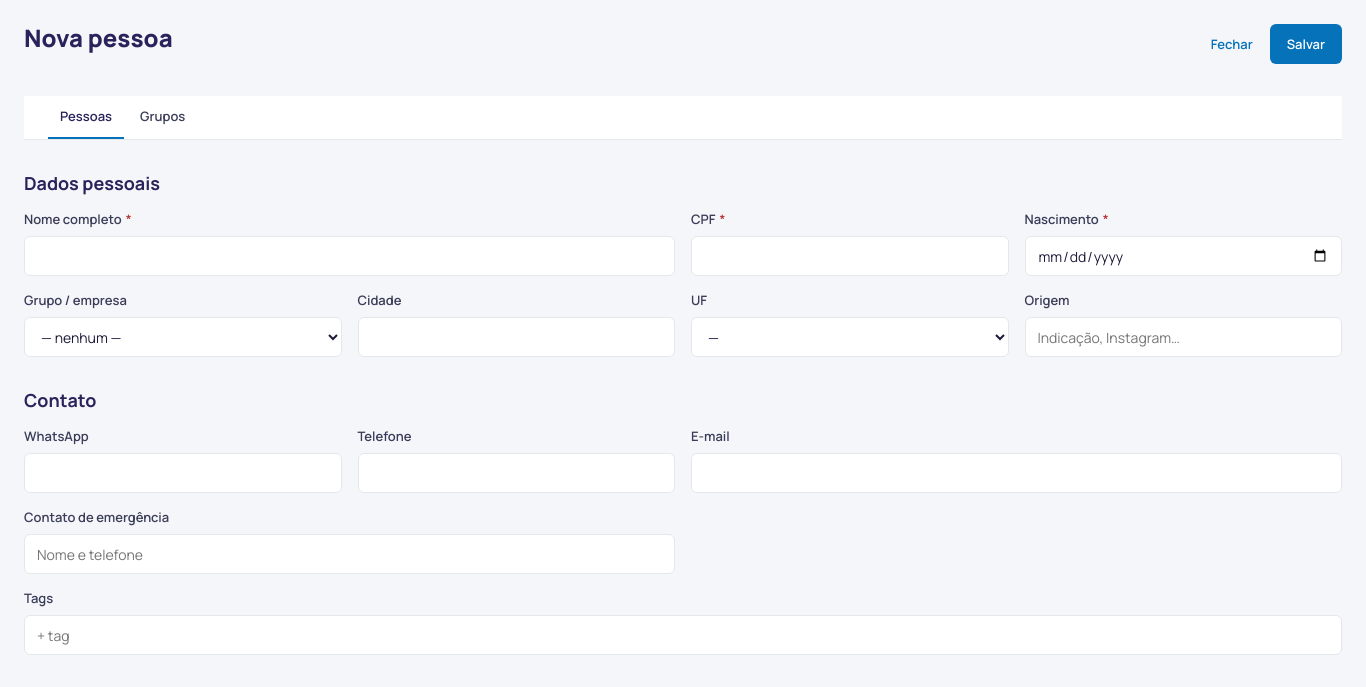
Test: /clientes/nova não tem abas e salvar cria e navega para a pessoa
Expected: the heading "Nova pessoa" is shown, [24,21,173,54]
In the field labelled "Nome completo *": (350, 256) [24,236,675,276], type "Bia Nova"
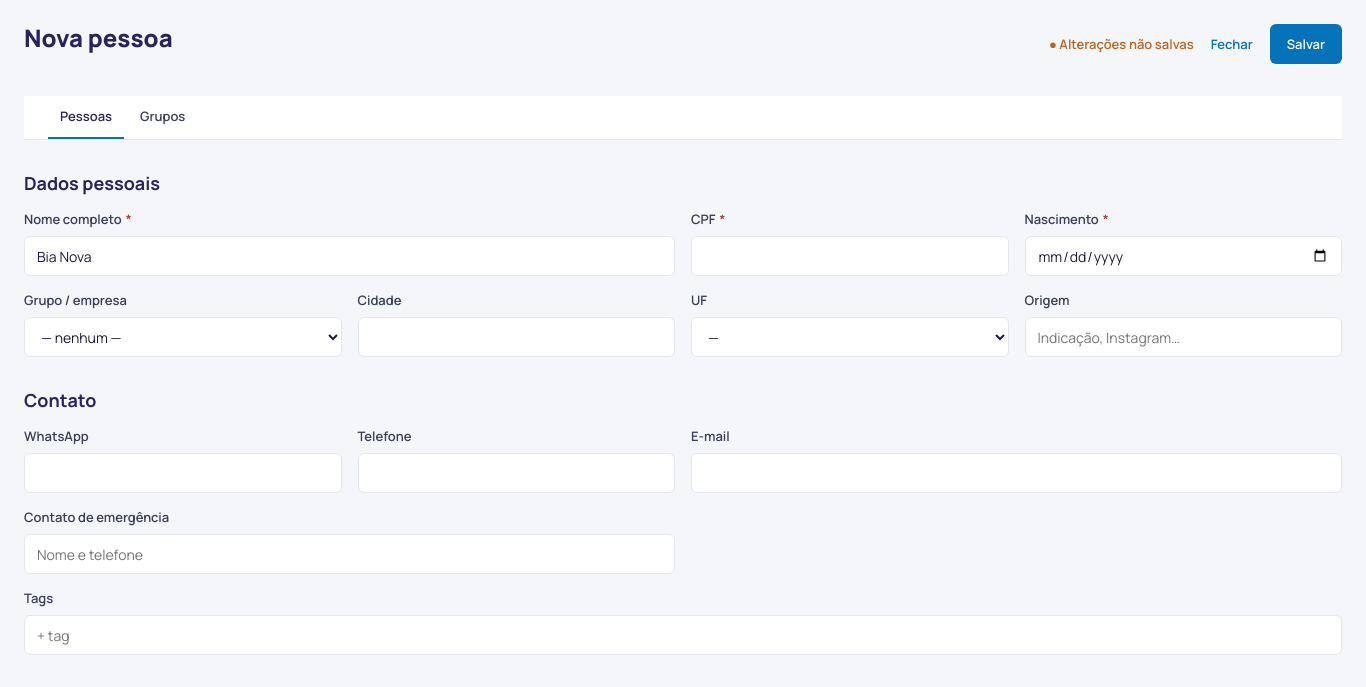
Click the button "Salvar": (1306, 44) [1270,24,1342,64]
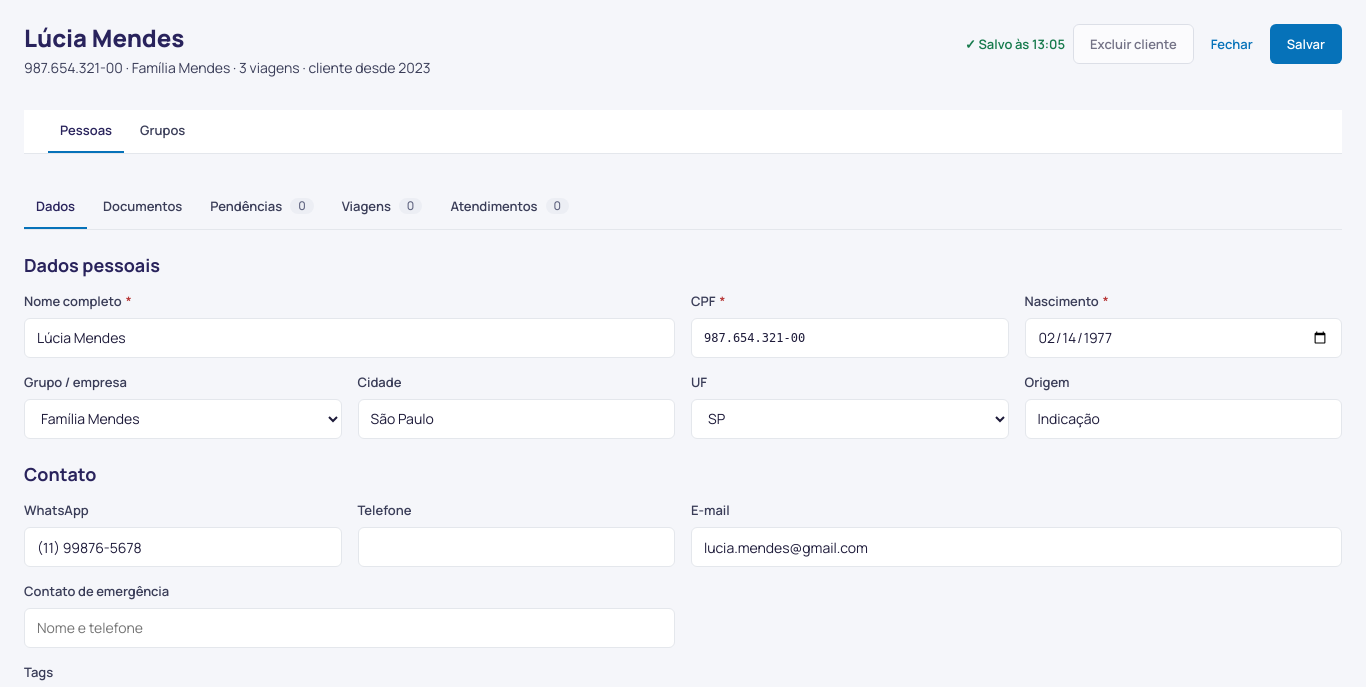
Now the number of tabs is 5, box [24,186,87,229]; [91,186,194,229]; [198,186,326,229]; [330,186,434,229]; [438,186,581,229]
